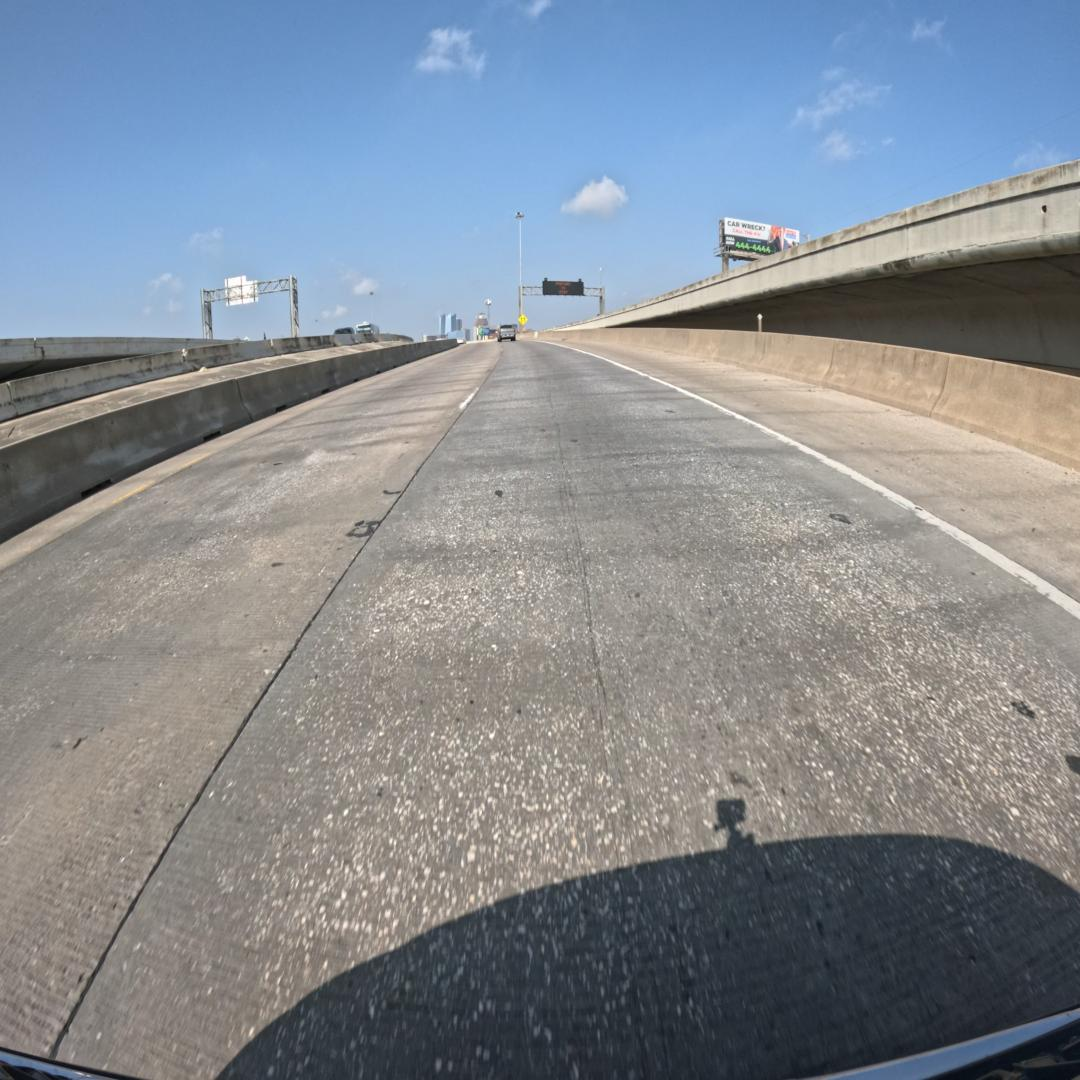lane0: (55, 342, 1080, 1080)
lane1: (0, 343, 499, 1054)
